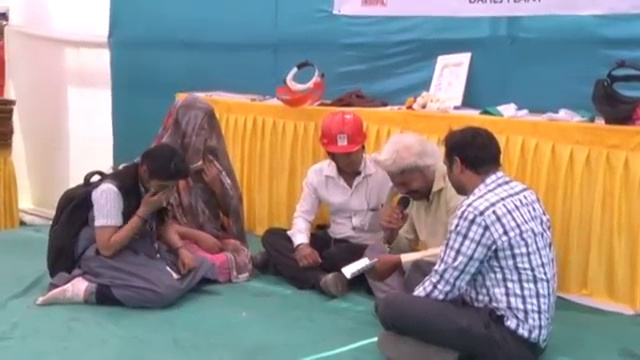helmet: (314, 116, 370, 156)
helmet_off: (441, 126, 506, 202), (381, 132, 444, 209), (164, 97, 220, 181), (128, 142, 191, 199), (184, 117, 231, 180)
helmet_on: (317, 115, 371, 184)
person: (356, 130, 559, 344), (31, 139, 222, 309), (254, 108, 396, 293), (154, 100, 250, 279), (360, 134, 465, 297)
